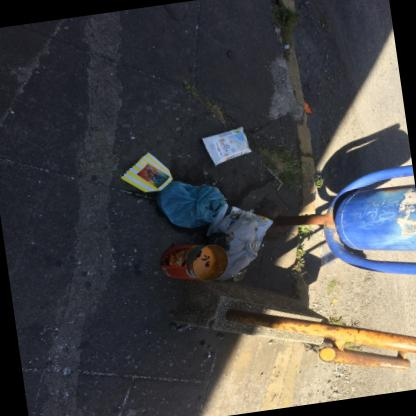Metal: (159, 244, 227, 281)
Paper: (119, 152, 172, 192), (201, 126, 250, 166)
Plastic: (204, 210, 259, 281), (155, 181, 225, 228), (205, 203, 241, 235), (248, 212, 272, 246), (266, 168, 281, 190), (302, 102, 311, 113)
